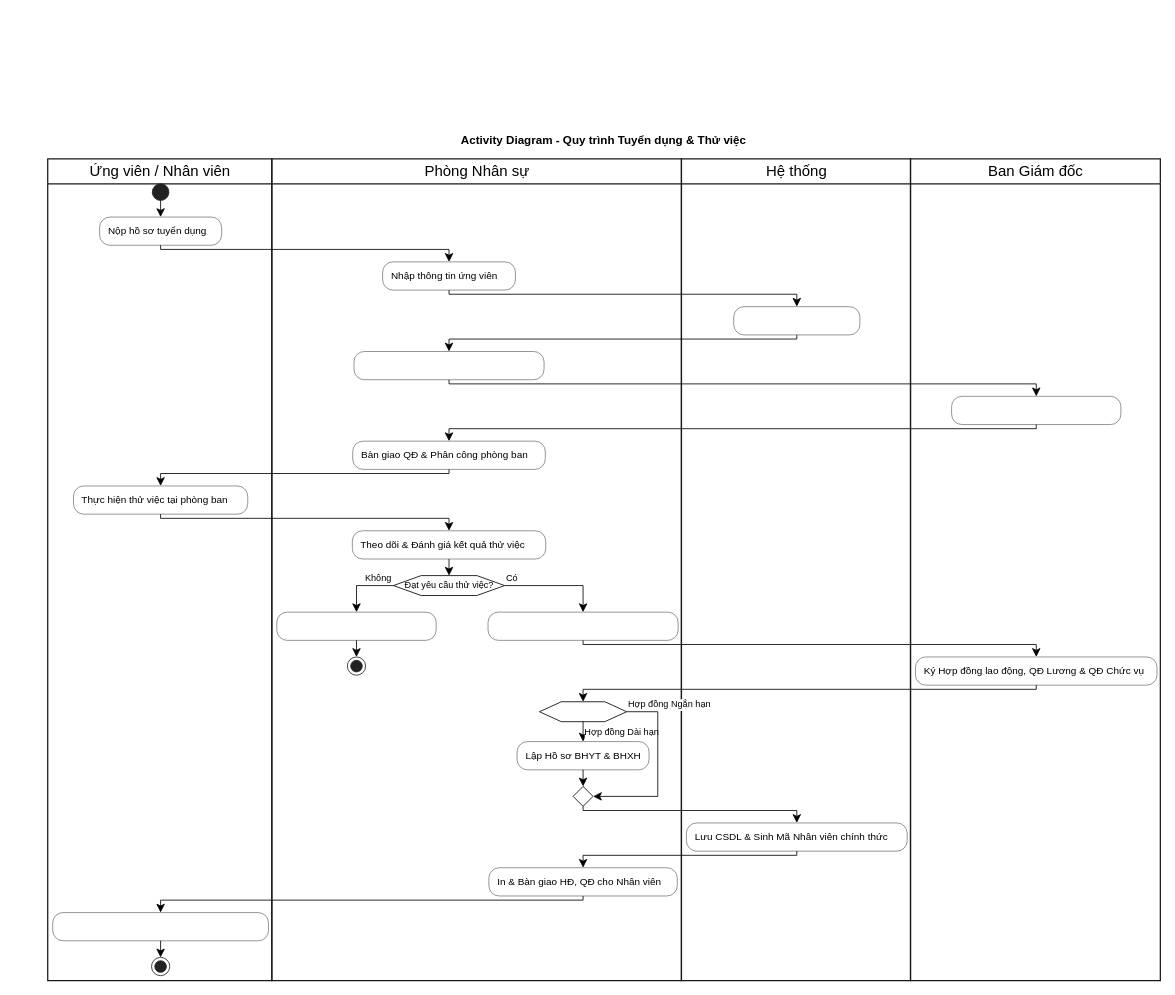
Some shapes in this 1175 by 995 pixel diagram are drawn without their labels. Each missing label, with the centre of its shape:
"Chấm dứt thử việc & Thanh lý" belongs at point 356,626.
"Duyệt & Ký Quyết định thử việc" belongs at point 1036,410.
"Khởi tạo hồ sơ thử việc" belongs at point 796,320.
"Loại Hợp đồng?" belongs at point 583,711.
"Lập Quyết định tuyển dụng thử việc" belongs at point 448,365.
"Nhận Hợp đồng & Quyết định chính thức" belongs at point 160,926.
"Soạn Hợp đồng lao động chính thức" belongs at point 582,626.
